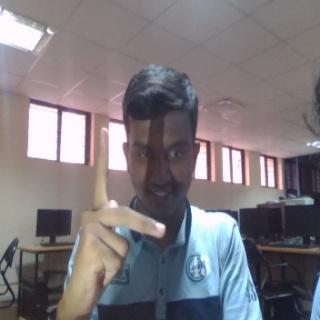Okay: (63, 125, 169, 316)
